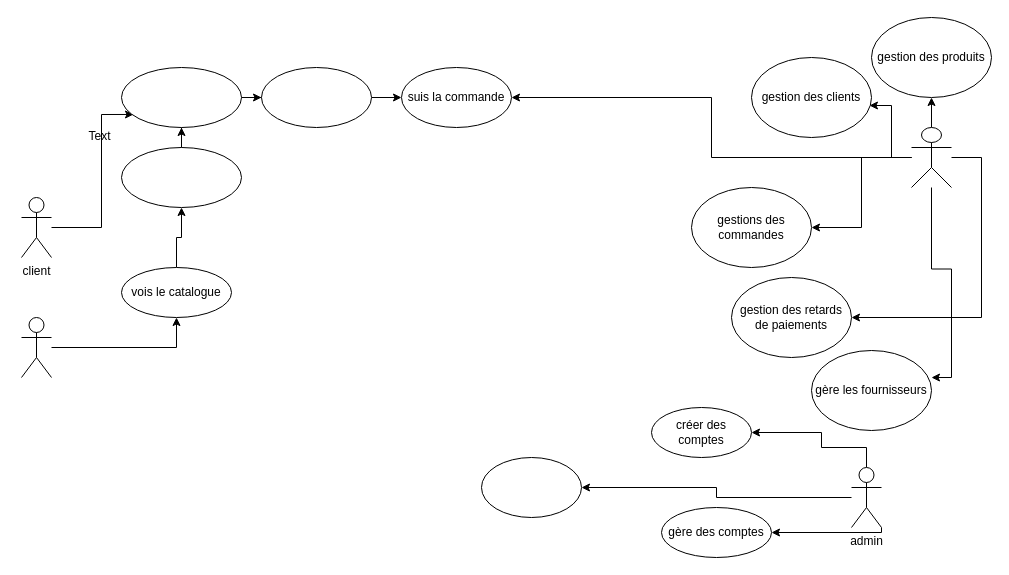
Image size: 1009x575. Some labels were removed from this diagram. The centre of each missing label's shape, as x and y in pixels:
"commercial" belongs at [931,157].
"crée et supprime des articles" belongs at [531,487].
"créer un compte" belongs at [181,177].
"passe une commande" belongs at [316,97].
"se connecte" belongs at [181,97].
"visiteur" belongs at [36,347].
